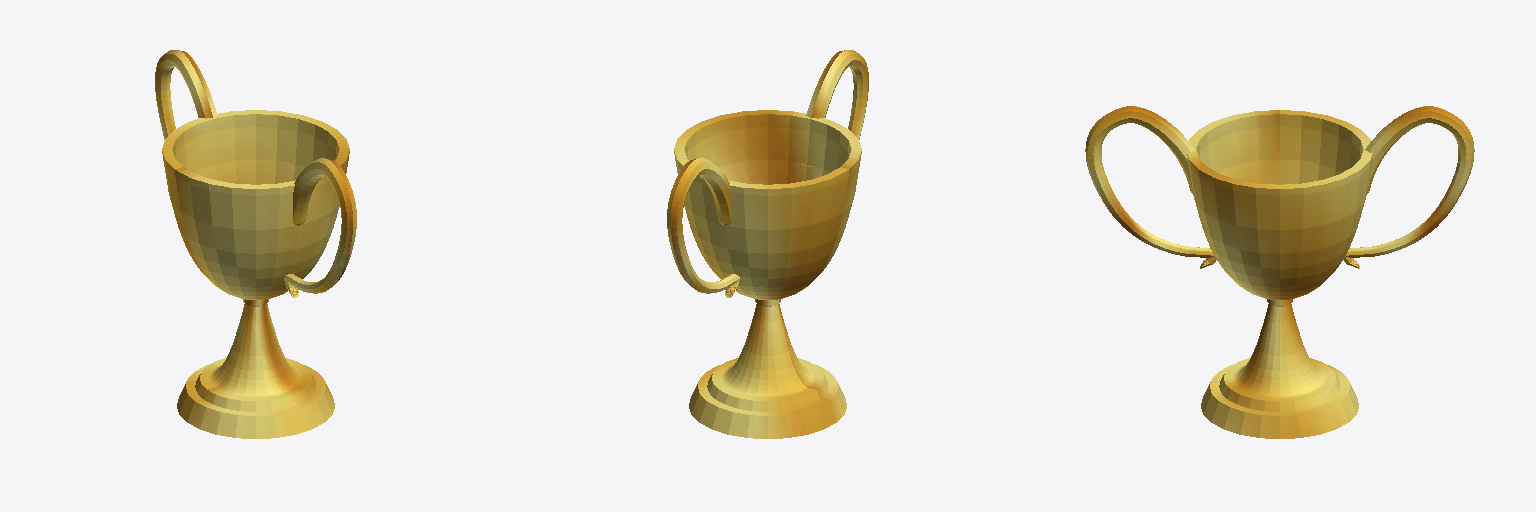
3 renders of one model, left to right at view 1: azimuth 30°, elevation 25°; view 2: azimuth 150°, elevation 25°; view 3: azimuth 270°, elevation 25°, orthographic.
Visible parts, largest first — view 1: Base, Handle, Handle_1; view 2: Base, Handle_1, Handle; view 3: Base, Handle, Handle_1.
Boxes of the visible parts, box(x1,y1,x2,y2) form: Base: box(162, 110, 349, 438); Handle: box(284, 158, 356, 297); Handle_1: box(155, 50, 221, 166); Base: box(674, 110, 861, 438); Handle_1: box(667, 158, 739, 297); Handle: box(802, 50, 868, 166); Base: box(1187, 110, 1372, 438); Handle: box(1085, 106, 1216, 268); Handle_1: box(1343, 106, 1474, 268).
Size of the model in its own units: 3.05 by 5.38 by 6.33.
Materials: 2 (1 with a texture image).